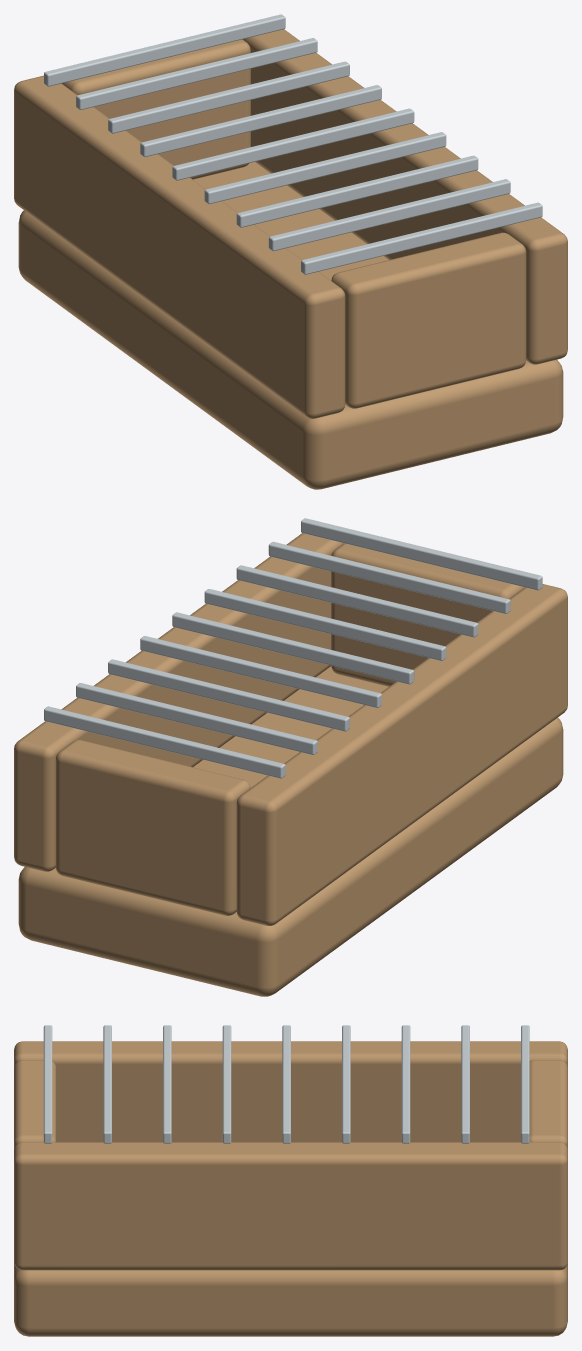
Rendered from beekeeping-and-honey-farm-queen-introduction-cage-6f69359b__30723.glb.
The picture shows the model from 3 angles, top to bottom: view 1: azimuth 30°, elevation 25°; view 2: azimuth 150°, elevation 25°; view 3: azimuth 270°, elevation 25°; orthographic projection. The views are drawn at different scales.
Parts seen in each view (by area): view 1: queen-introduction-cage; view 2: queen-introduction-cage; view 3: queen-introduction-cage.
Boxes of the visible parts, x1,y1,x2,y2 form: queen-introduction-cage: (14, 14, 567, 489); queen-introduction-cage: (14, 518, 567, 996); queen-introduction-cage: (14, 1025, 567, 1336).
Size of the model in its own units: 0.066 by 0.053 by 0.13.
